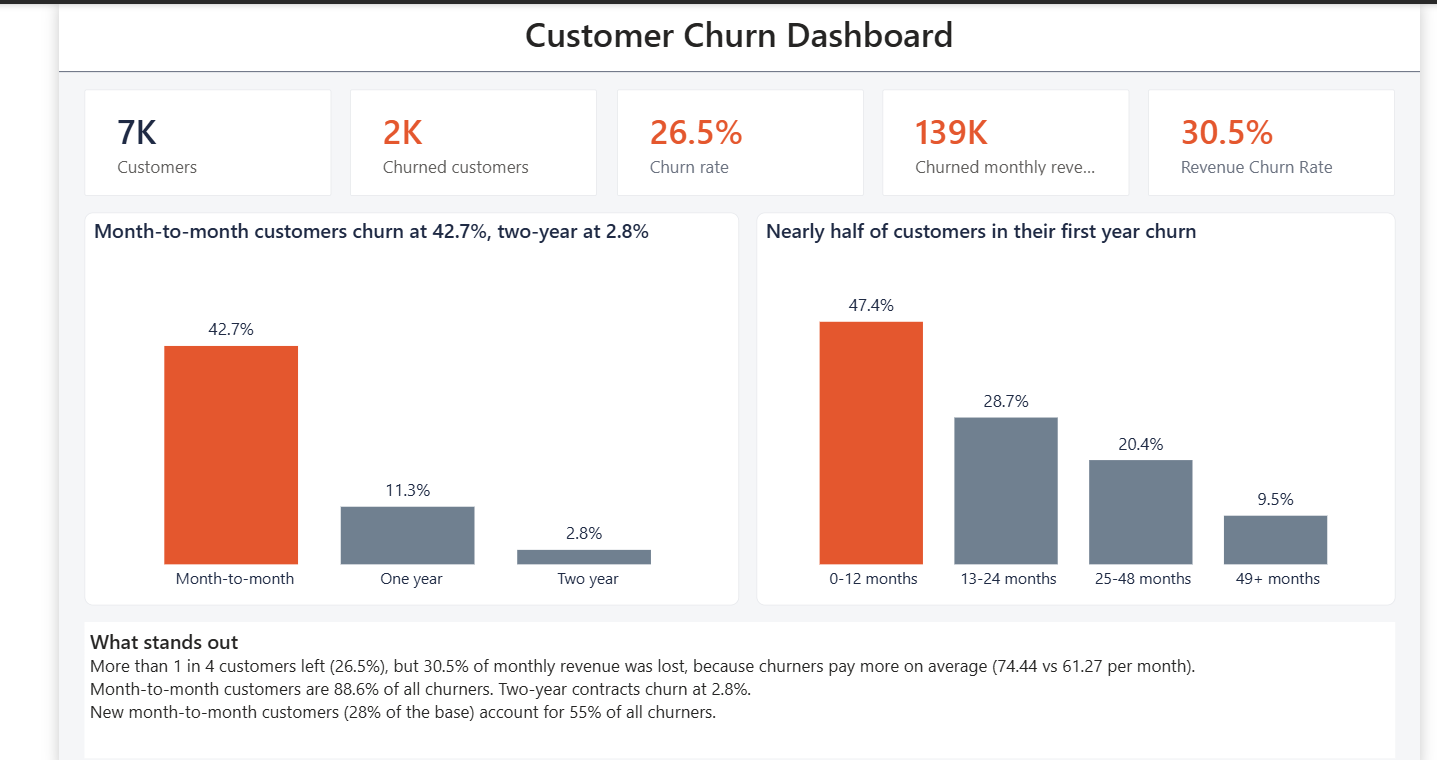

What the dashboard file says about the page in this screenshot:
{"tool":"powerbi","page":{"name":"Overview","canvas":[1280,720],"ordinal":0},"visuals":[{"type":"cardVisual","title":"Churned Customers","fields":{"Data":["Customers.Churned Customers"]},"box":[274,80,232,100],"z":0},{"type":"cardVisual","title":"Customers ","fields":{"Data":["Customers.Customers Count"]},"box":[24,80,232,100],"z":1000},{"type":"cardVisual","title":"Churn rate","fields":{"Data":["Customers.Churn Rate"]},"box":[524,80,232,100],"z":2000},{"type":"cardVisual","title":"Churned monthly revenue","fields":{"Data":["Customers.Churned Monthly Revenue"]},"box":[774,80,232,100],"z":3000},{"type":"cardVisual","title":"Revenue churn rate","fields":{"Data":["Customers.Revenue Churn Rate"]},"box":[1024,80,232,100],"z":4000},{"type":"columnChart","title":"Month-to-month customers churn at 42.7%, two-year at 2.8%","fields":{"Y":["Customers.Churn Rate"],"Category":["Customers.contract"]},"box":[24,196.5,615.1,369.1],"z":5000},{"type":"columnChart","title":"47% of customers in their first year churn","fields":{"Y":["Customers.Churn Rate"],"Category":["Customers.tenure_band"]},"box":[655,196.5,600.7,369.1],"z":6000},{"type":"shape","box":[0,0,1280,64],"z":7000},{"type":"textbox","box":[0,0,1279,63],"z":8000},{"type":"textbox","box":[24,581.6,1231.8,127.8],"z":9000},{"type":"pageNavigator","box":[880,14.4,376,36],"z":10000}]}

Visuals, with their boxes on the page's 1280x720 design canvas (x1, y1, x2, y2). These are canvas units, not pixel positions in the 1437x760 screenshot, which may show the page scaled, cropped or inside an application window:
"Churned Customers" cardVisual: 274 80 506 180
"Customers " cardVisual: 24 80 256 180
"Churn rate" cardVisual: 524 80 756 180
"Churned monthly revenue" cardVisual: 774 80 1006 180
"Revenue churn rate" cardVisual: 1024 80 1256 180
"Month-to-month customers churn at 42.7%, two-year at 2.8%" columnChart: 24 196 639 566
"47% of customers in their first year churn" columnChart: 655 196 1256 566
shape: 0 0 1280 64
textbox: 0 0 1279 63
textbox: 24 582 1256 709
pageNavigator: 880 14 1256 50
